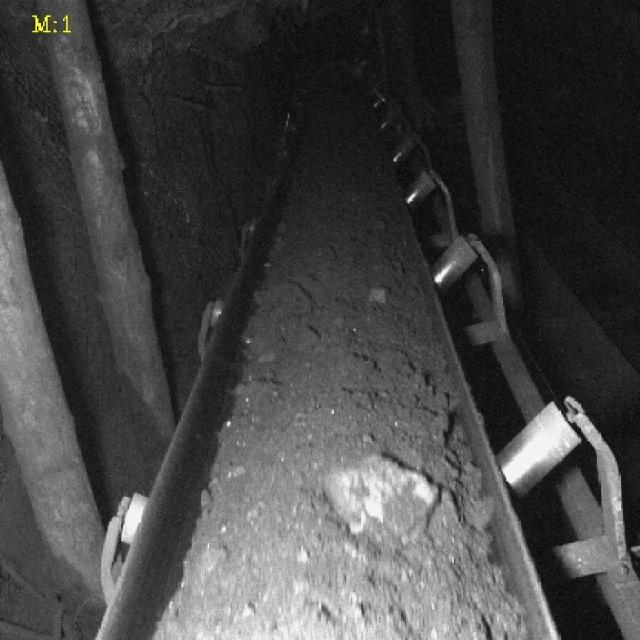large_sized_coal: (332, 448, 437, 538)
